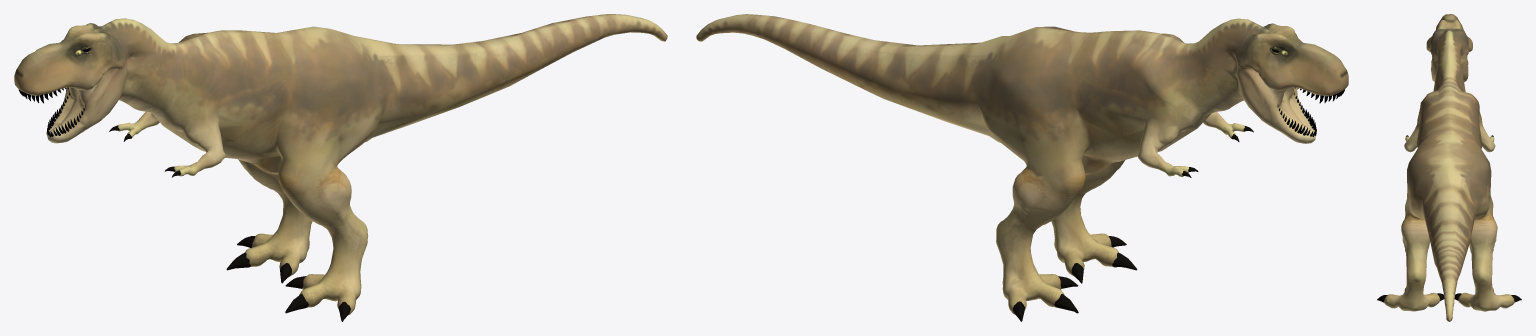
Rendered from t-rex.dae.
The picture shows the model from 3 angles, left to right: view 1: azimuth 30°, elevation 25°; view 2: azimuth 150°, elevation 25°; view 3: azimuth 270°, elevation 25°; orthographic projection. The views are drawn at different scales.
Parts seen in each view (by area): view 1: T-Rex; view 2: T-Rex; view 3: T-Rex.
Part boxes in pixels (x1=…): T-Rex: x1=14, y1=14, x2=667, y2=321; T-Rex: x1=696, y1=14, x2=1348, y2=321; T-Rex: x1=1377, y1=14, x2=1521, y2=321.
Size of the model in its own units: 0.5465 by 0.2487 by 0.1535.
